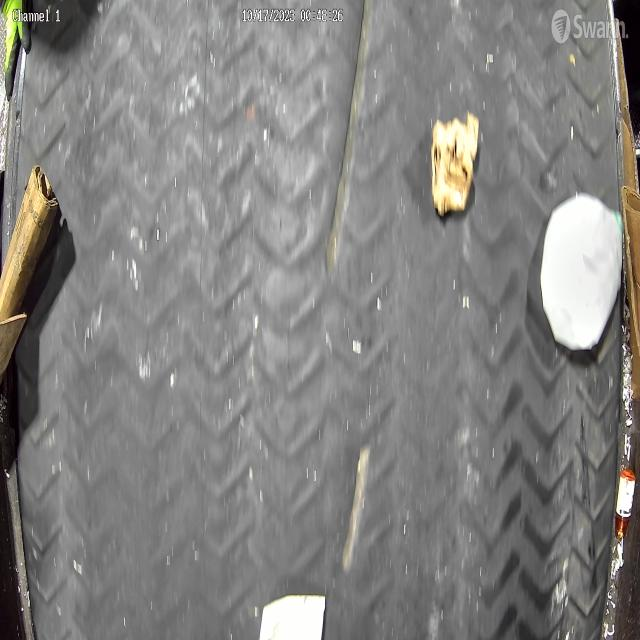milk_jug: (539, 191, 622, 354)
